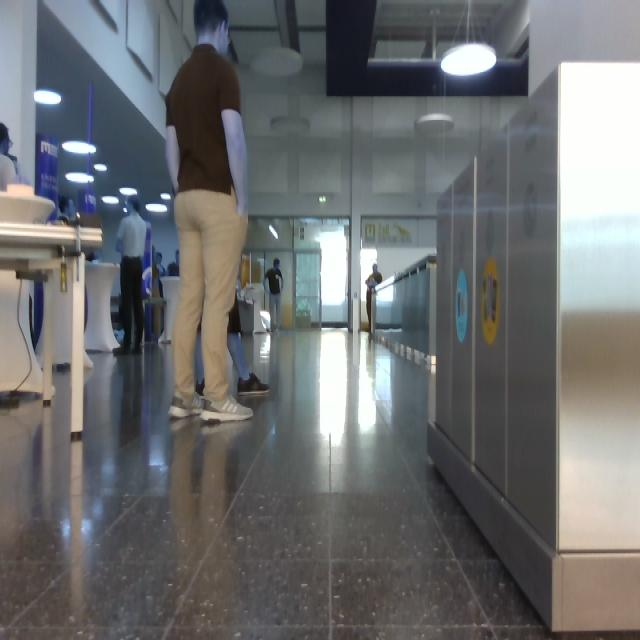door: (294, 218, 349, 328)
light bulb: (441, 1, 497, 76), (441, 44, 497, 77), (252, 48, 303, 77), (35, 89, 62, 106), (63, 141, 96, 152), (7, 184, 35, 196), (66, 173, 94, 184), (146, 204, 167, 213), (119, 188, 137, 196), (269, 225, 278, 240), (102, 197, 118, 205), (94, 164, 108, 172), (162, 193, 172, 200)
person: (167, 1, 252, 421), (115, 200, 146, 354), (264, 258, 284, 332), (366, 264, 382, 332)
table: (1, 222, 102, 440), (1, 270, 42, 394), (1, 185, 53, 224), (42, 321, 54, 406)
tiled floor: (1, 332, 551, 640)
trash bin: (429, 61, 640, 630)
